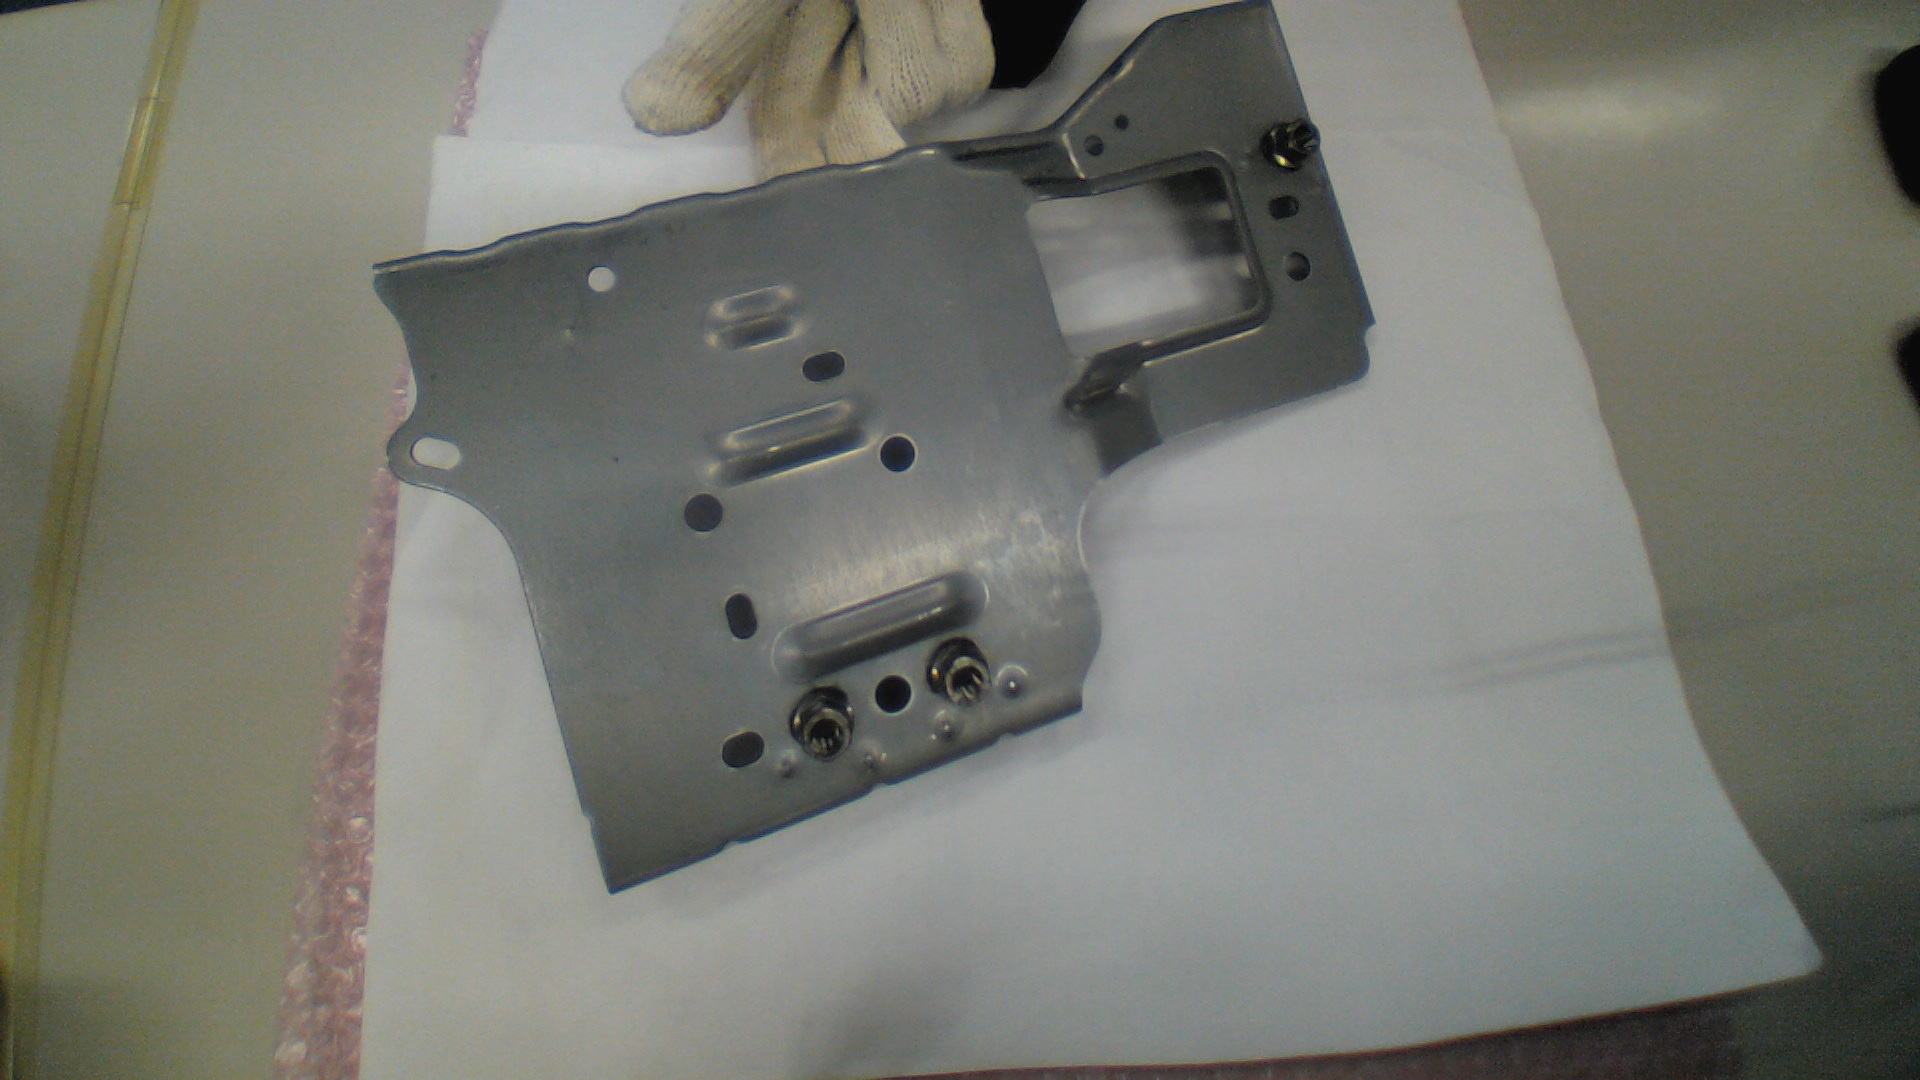dog: (789, 687, 853, 760), (926, 640, 988, 705), (1261, 117, 1323, 175)
